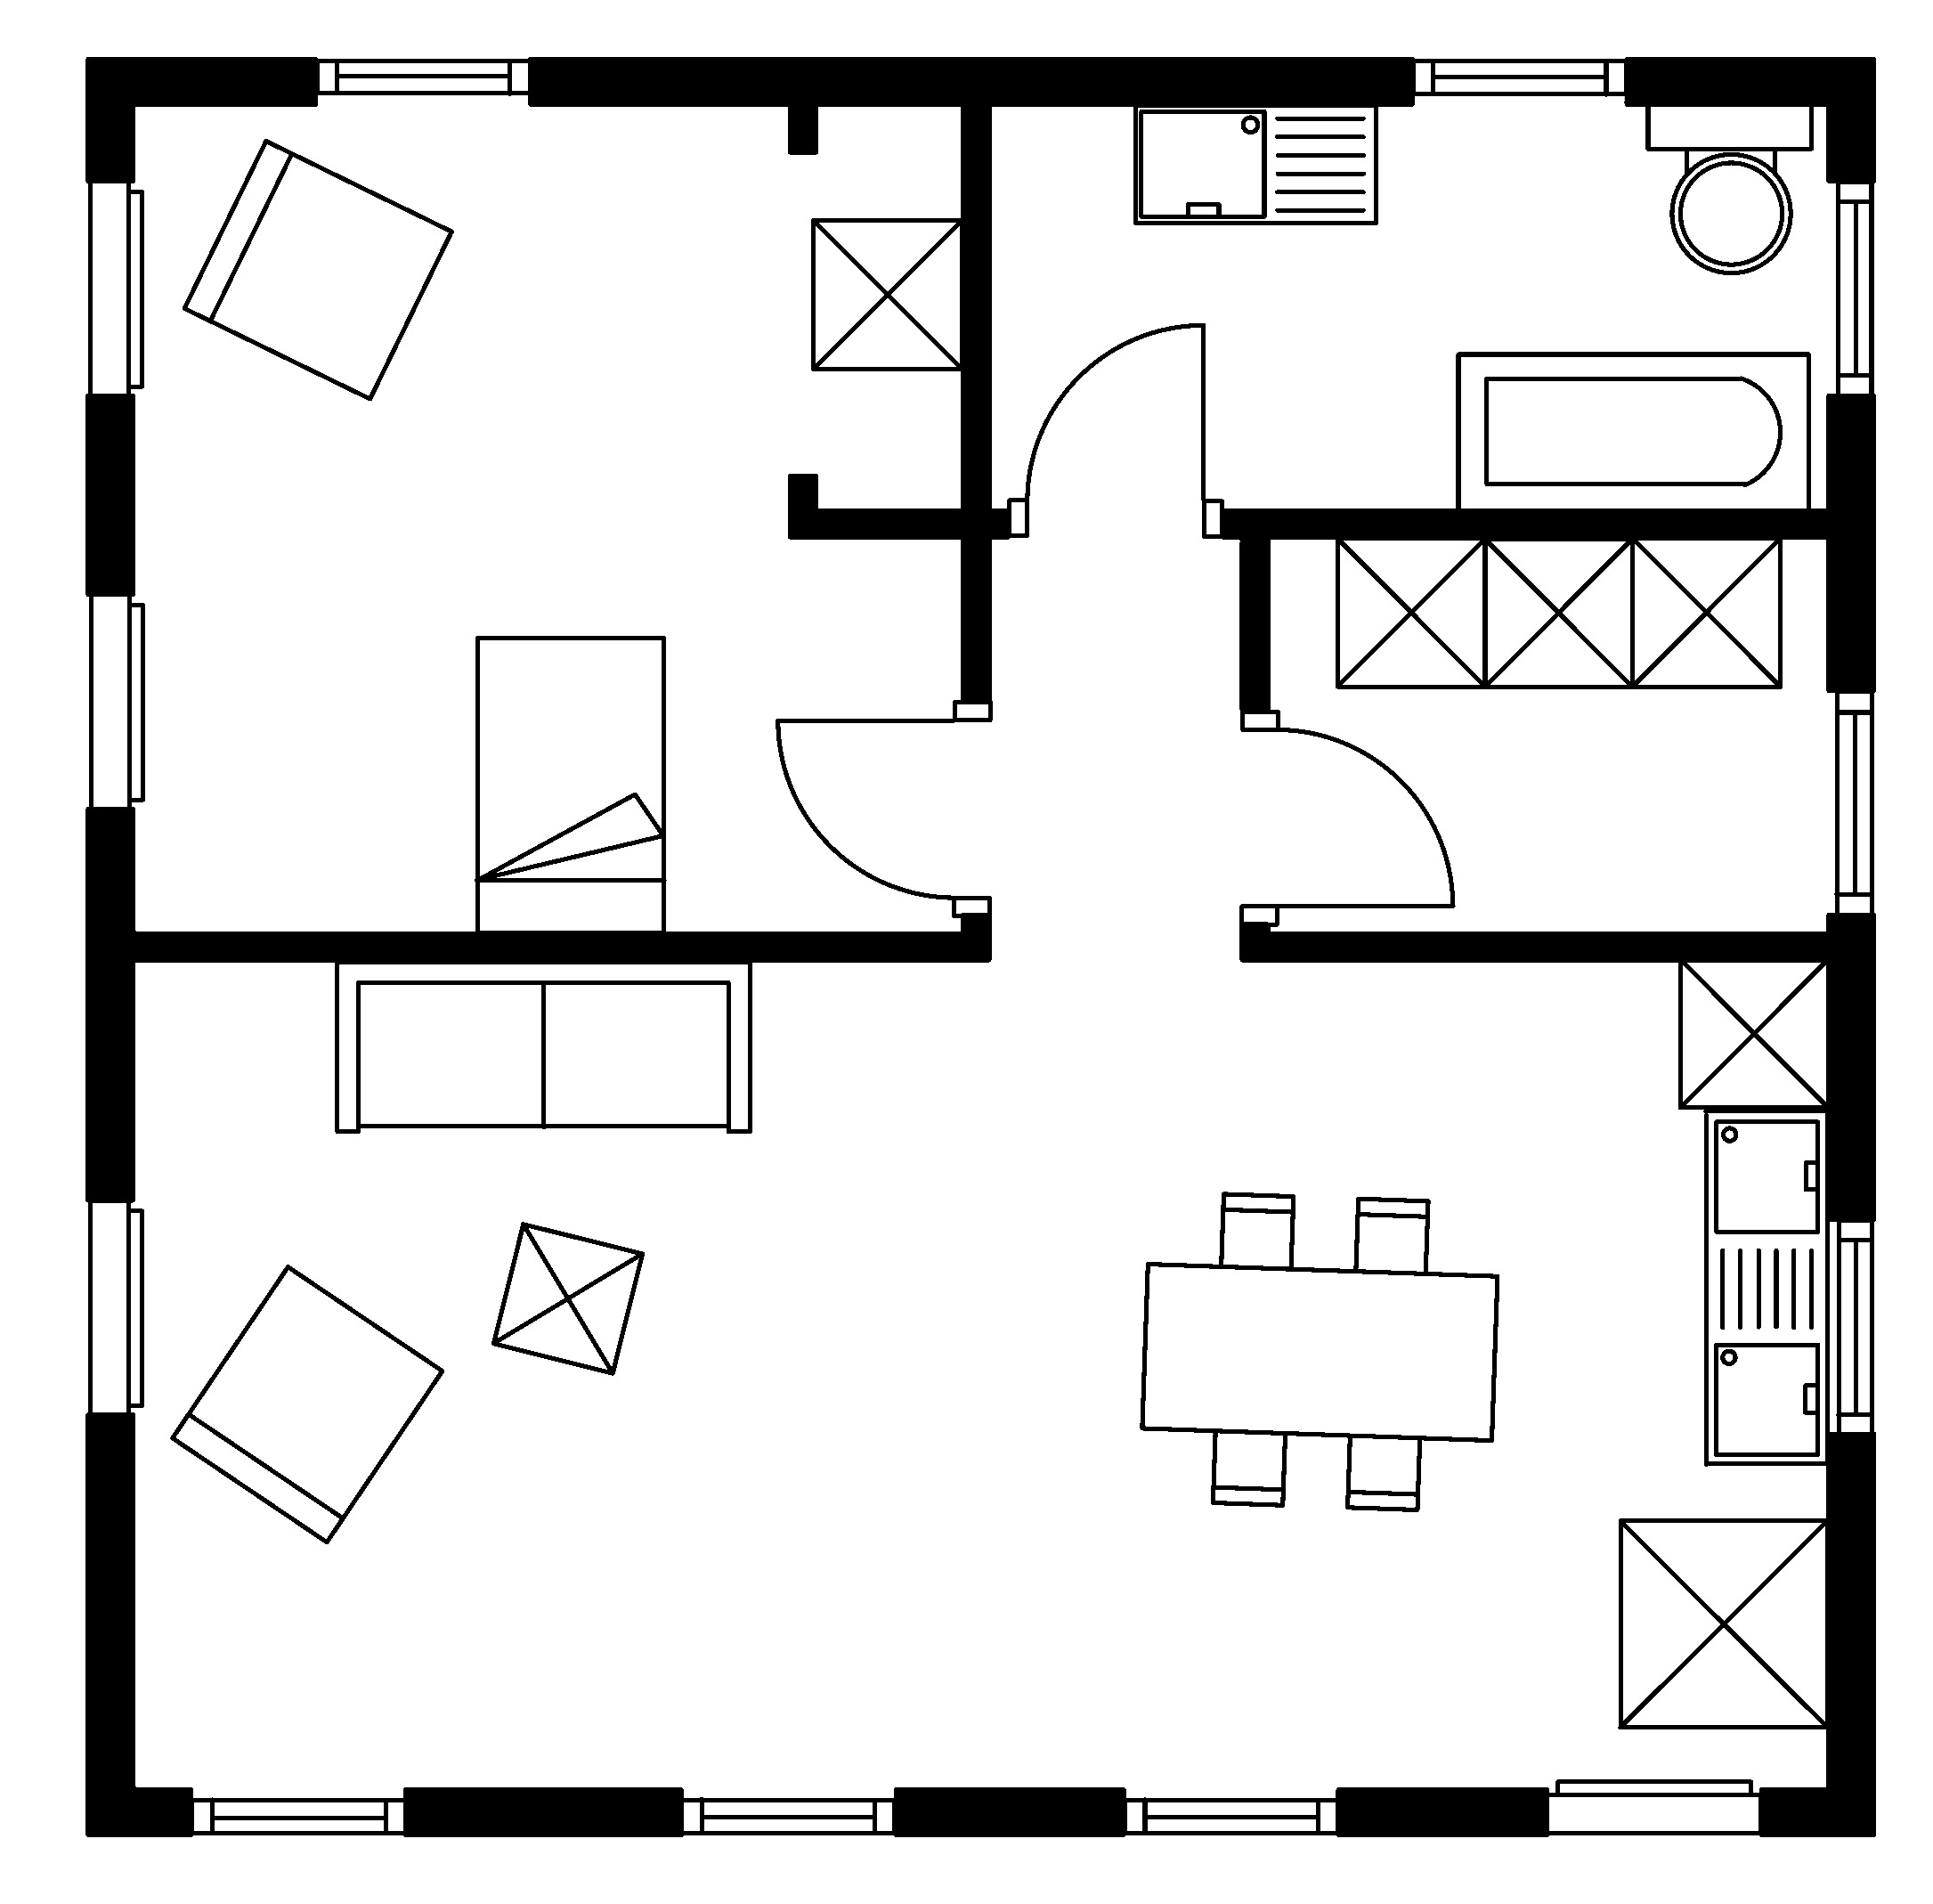basin: (1692, 1109, 1834, 1472), (1129, 105, 1384, 230)
bed: (469, 628, 671, 936)
door: (769, 701, 997, 919), (1238, 710, 1462, 926), (1009, 316, 1225, 541)
rectangleTable: (1129, 1180, 1508, 1522)
window: (1412, 54, 1628, 105), (1832, 689, 1879, 921), (190, 1792, 410, 1841), (1830, 180, 1877, 401), (315, 54, 530, 101), (1126, 1792, 1339, 1839), (682, 1792, 892, 1839), (1834, 1215, 1877, 1438)
